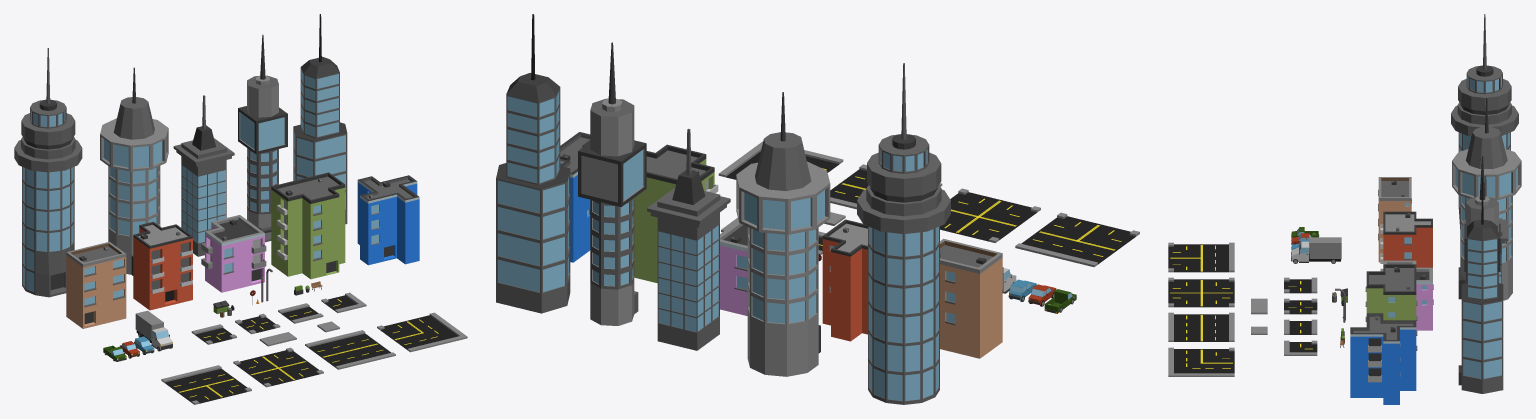
File: env_city_pack_01.glb
The picture shows the model from 3 angles, left to right: view 1: azimuth 30°, elevation 25°; view 2: azimuth 150°, elevation 25°; view 3: azimuth 270°, elevation 25°; orthographic projection. The views are drawn at different scales.
Visible parts, largest first — view 1: Skyscraper1, Skyscraper3, Apartment4, Skyscraper5, Skyscraper4, Apartment5, Skyscraper2, Apartment2, Apartment1, Apartment3, StreetILarge, StreetTLarge (+7 smaller); view 2: Skyscraper1, Skyscraper3, Skyscraper5, Skyscraper4, Skyscraper2, Apartment1, Apartment2, Apartment4, StreetTLarge, Street+Large, Apartment3, Apartment5 (+2 smaller); view 3: Skyscraper5, Skyscraper3, Apartment5, Skyscraper1, Apartment4, Apartment2, StreetTLarge, Street+Large, StreetILarge, StreetLLarge, Apartment1, Apartment3 (+7 smaller).
Boxes of the visible parts, x1,y1,x2,y2 form: Skyscraper1: [14, 48, 82, 297]; Skyscraper3: [100, 67, 168, 275]; Apartment4: [271, 172, 345, 279]; Skyscraper5: [293, 14, 347, 224]; Skyscraper4: [238, 34, 287, 242]; Apartment5: [357, 175, 419, 265]; Skyscraper2: [173, 95, 234, 256]; Apartment2: [133, 221, 192, 310]; Apartment1: [66, 241, 126, 328]; Apartment3: [201, 215, 266, 292]; StreetILarge: [305, 330, 395, 369]; StreetTLarge: [161, 365, 251, 404]; Skyscraper1: [857, 63, 950, 404]; Skyscraper3: [736, 92, 830, 376]; Skyscraper5: [496, 14, 570, 313]; Skyscraper4: [578, 42, 646, 325]; Skyscraper2: [647, 128, 730, 350]; Apartment1: [940, 238, 1002, 358]; Apartment2: [822, 219, 867, 341]; Apartment4: [634, 144, 718, 283]; StreetTLarge: [1015, 212, 1139, 267]; Street+Large: [940, 188, 1040, 242]; Apartment3: [720, 221, 747, 315]; Apartment5: [560, 132, 590, 262]; Skyscraper5: [1458, 176, 1503, 393]; Skyscraper3: [1452, 97, 1521, 300]; Apartment5: [1350, 313, 1416, 404]; Skyscraper1: [1451, 14, 1518, 228]; Apartment4: [1365, 264, 1417, 350]; Apartment2: [1380, 211, 1432, 271]; StreetTLarge: [1168, 242, 1234, 272]; Street+Large: [1168, 277, 1234, 307]; StreetILarge: [1168, 312, 1234, 341]; StreetLLarge: [1168, 347, 1234, 376]; Apartment1: [1378, 177, 1411, 262]; Apartment3: [1383, 260, 1433, 330].
Size of the model in its own units: 48.39 by 31.56 by 42.72.
Materials: 1 (1 with a texture image).
